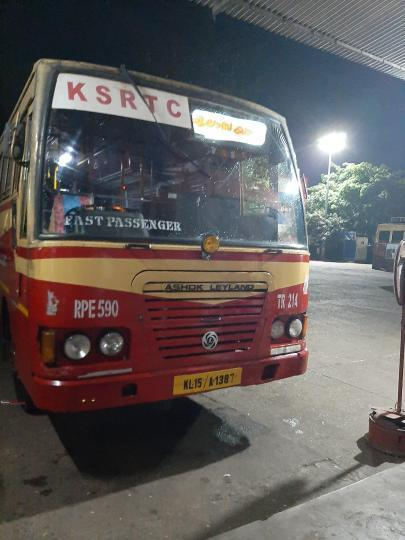Bus: (0, 59, 311, 417), (64, 78, 189, 123)
